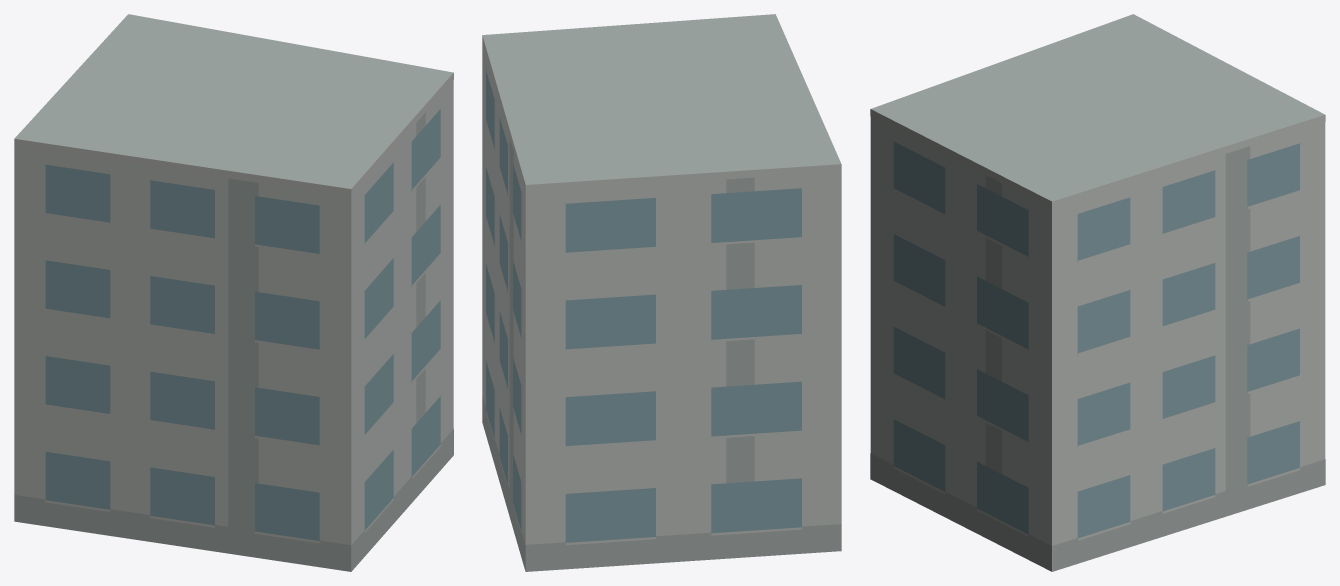
File: residential-354292c8-a9de-4e7c-a140-0c92e3af689d.glb
3 renders of one model, left to right at view 1: azimuth 30°, elevation 25°; view 2: azimuth 150°, elevation 25°; view 3: azimuth 270°, elevation 25°, orthographic. The views are drawn at different scales.
Visible parts, largest first — view 1: residential-354292c8-a9de-4e7c-a140-0c92e3af689d.tmp; view 2: residential-354292c8-a9de-4e7c-a140-0c92e3af689d.tmp; view 3: residential-354292c8-a9de-4e7c-a140-0c92e3af689d.tmp.
Boxes of the visible parts, bbox=[...] form: residential-354292c8-a9de-4e7c-a140-0c92e3af689d.tmp: bbox=[14, 14, 453, 571]; residential-354292c8-a9de-4e7c-a140-0c92e3af689d.tmp: bbox=[482, 14, 841, 571]; residential-354292c8-a9de-4e7c-a140-0c92e3af689d.tmp: bbox=[870, 14, 1325, 571].
Size of the model in its own units: 13.26 by 12.2 by 13.59.
